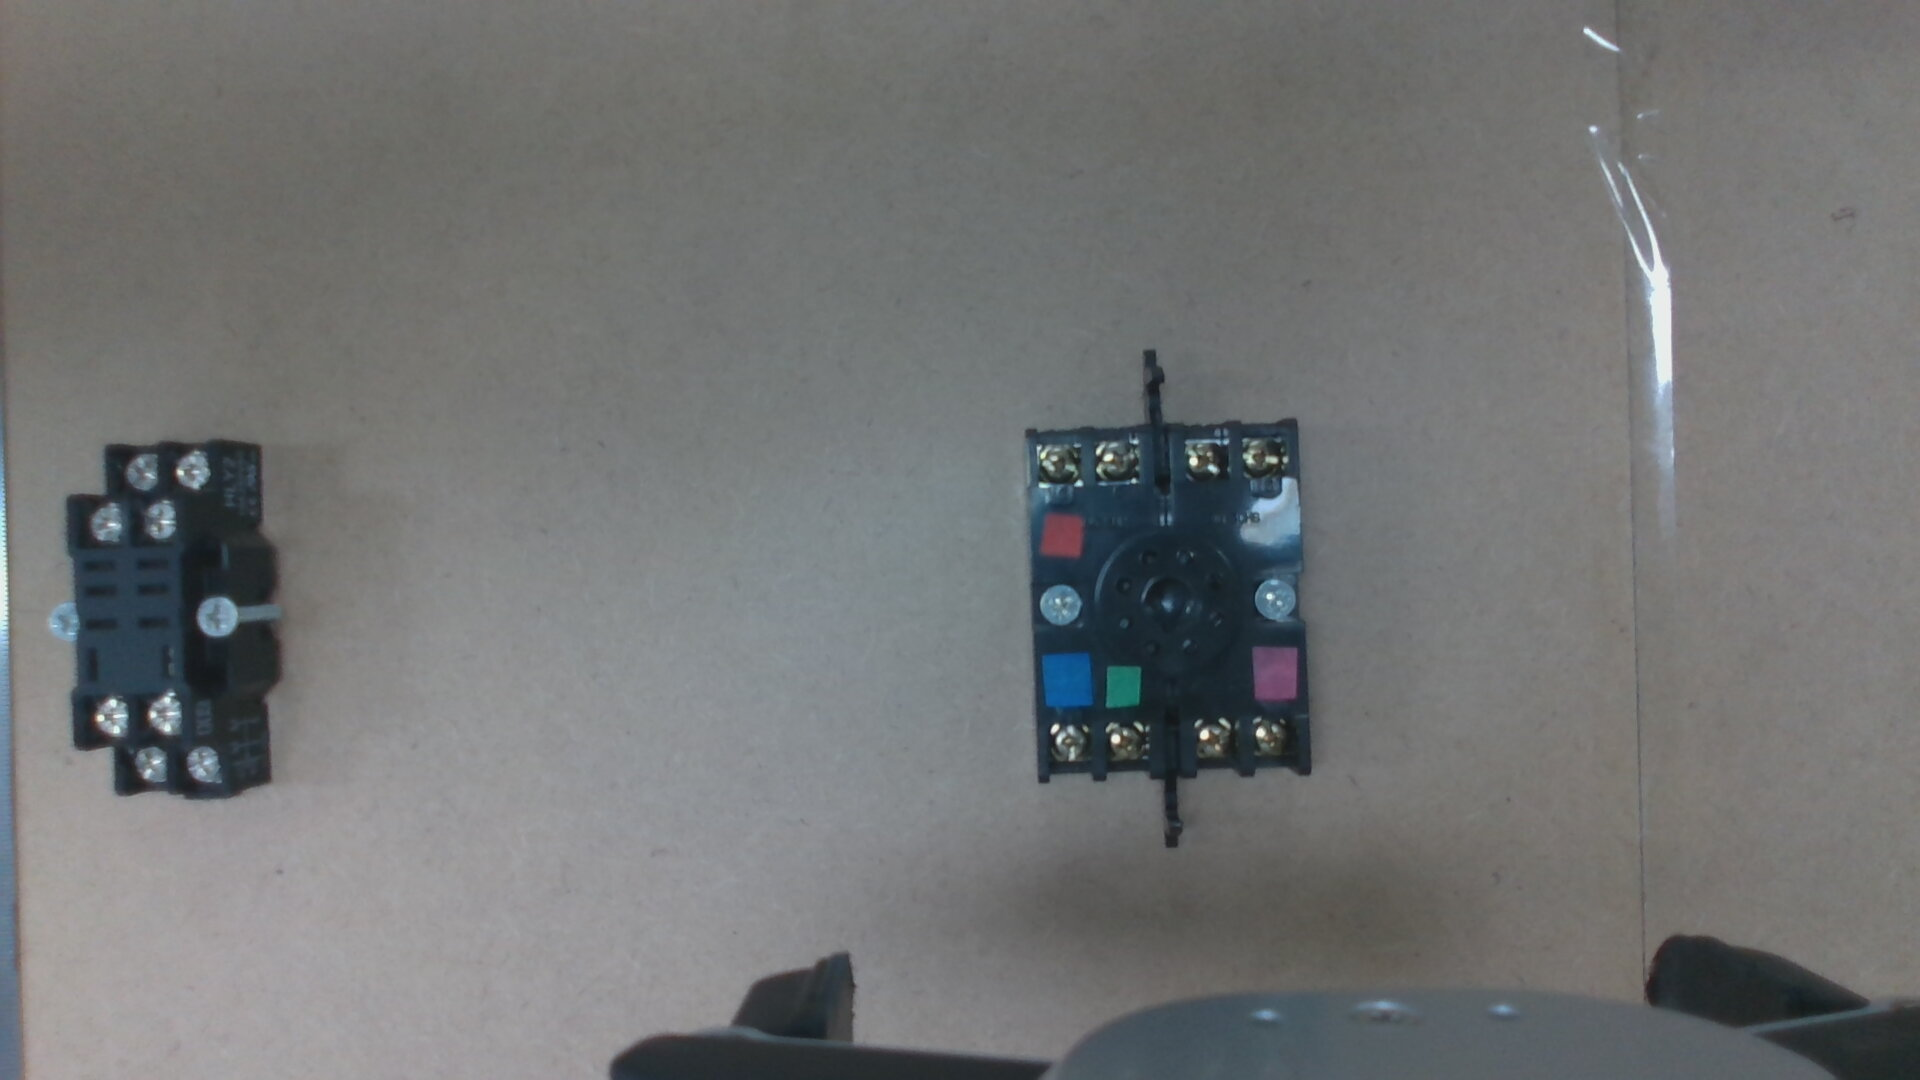timer 2: (1251, 715, 1294, 757)
timer 6: (1036, 444, 1079, 483)
timer 7: (1051, 725, 1091, 764)
timer 8: (1106, 721, 1147, 761)
